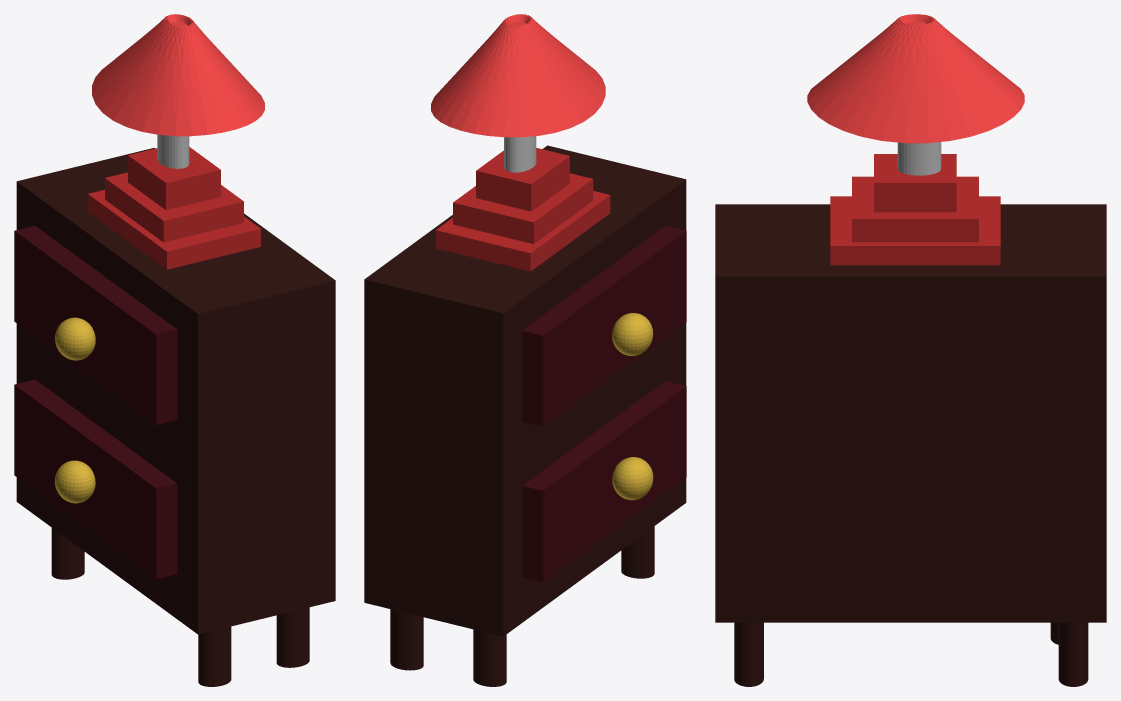
The model's file is lamp_red.fbx.
The picture shows the model from 3 angles, left to right: view 1: azimuth 30°, elevation 25°; view 2: azimuth 150°, elevation 25°; view 3: azimuth 270°, elevation 25°; orthographic projection. The views are drawn at different scales.
Parts seen in each view (by area): view 1: Cube.011; view 2: Cube.011; view 3: Cube.011.
Part boxes in pixels (x1=…): Cube.011: x1=14, y1=14, x2=335, y2=686; Cube.011: x1=364, y1=14, x2=686, y2=686; Cube.011: x1=715, y1=14, x2=1106, y2=686.
Size of the model in its own units: 1.28 by 3.7 by 2.05.
